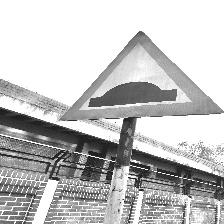Speed-breaker: (59, 33, 222, 120)
